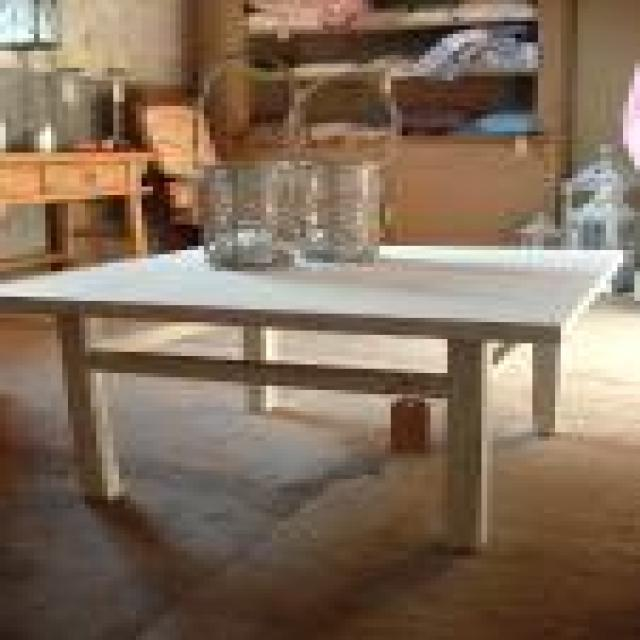table: (0, 233, 624, 558)
